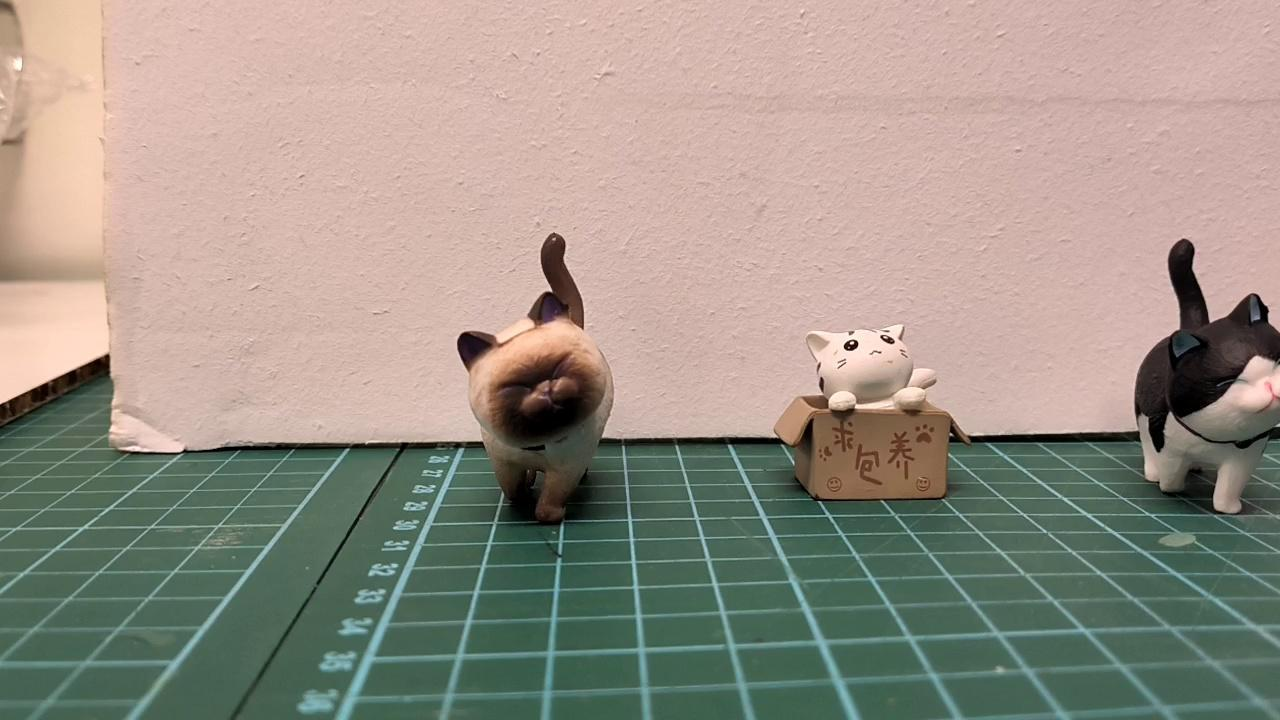pet: (456, 228, 615, 525), (1138, 238, 1280, 514), (801, 321, 935, 411)
